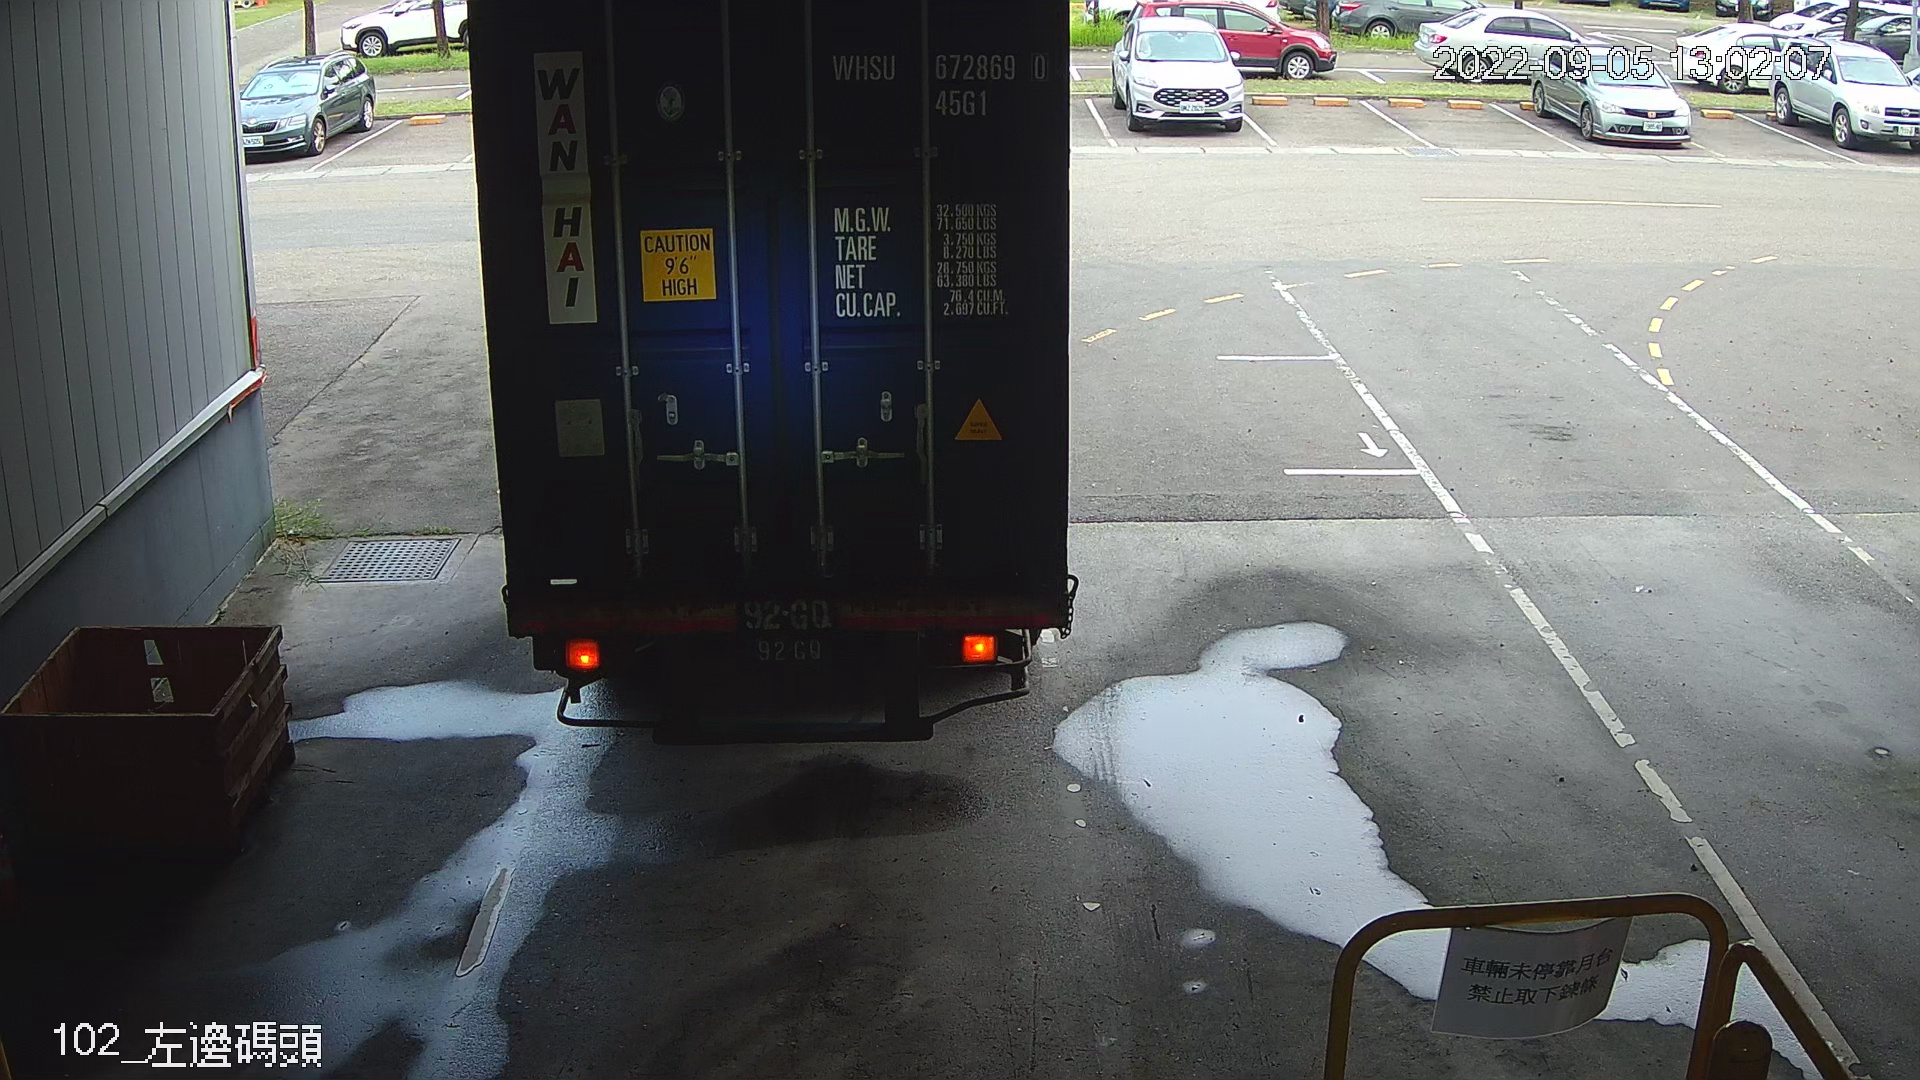container: (823, 40, 1058, 123)
